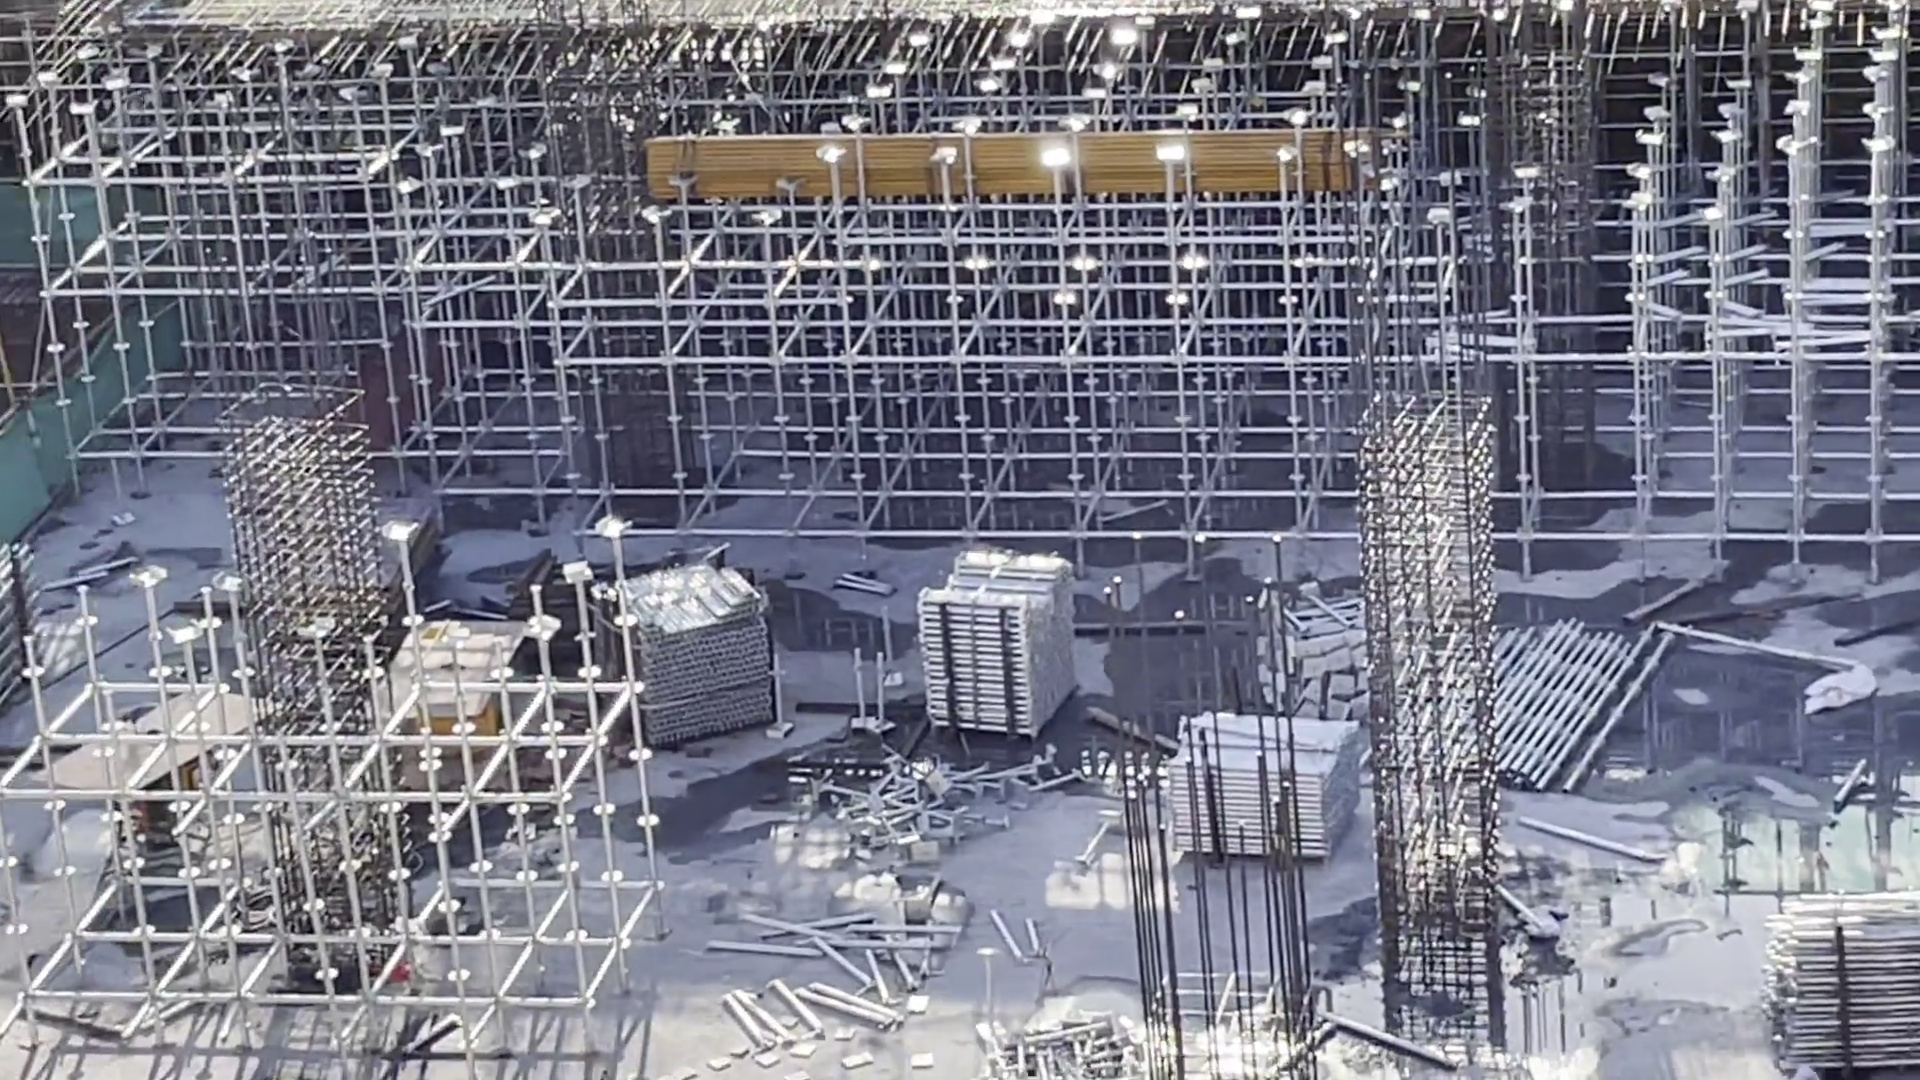cutter: (55, 691, 252, 905), (402, 622, 518, 764)
scaffold: (1378, 636, 1631, 764), (596, 563, 760, 738), (1143, 709, 1333, 855), (928, 564, 1077, 738), (1775, 909, 1920, 1062), (1, 545, 33, 702)
